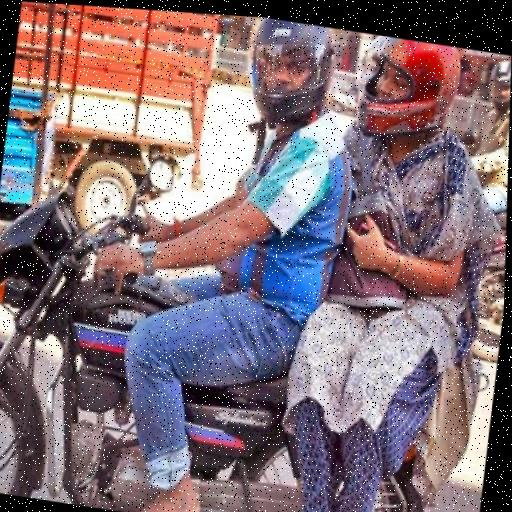Helmet: (340, 24, 474, 145), (230, 12, 346, 127)
Motor: (0, 166, 458, 512)
